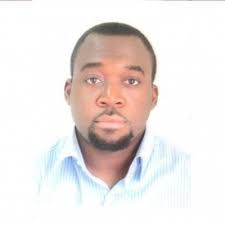black_male: (75, 30, 159, 156)
